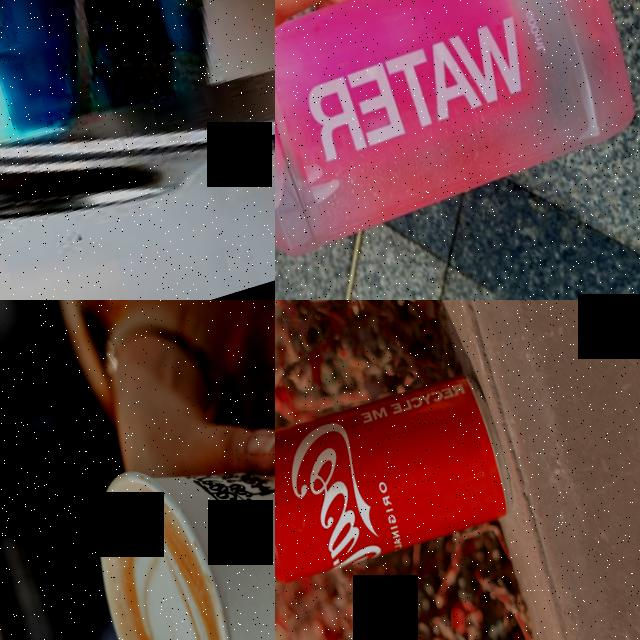bottle: (275, 0, 640, 300)
can: (275, 363, 523, 590)
cup: (68, 413, 275, 640)
